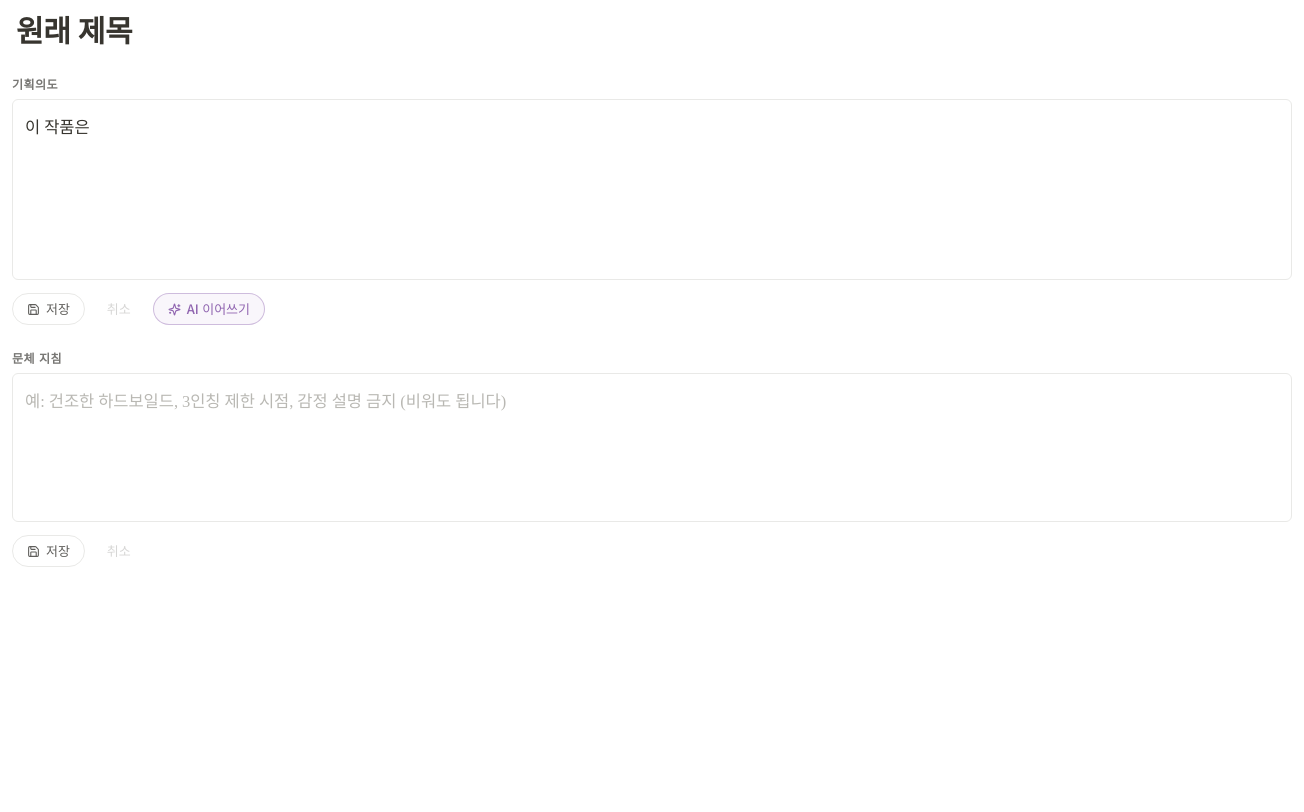
Test: SynopsisEditor › AI 제안 패널의 "취소" 클릭 시 기획의도를 바꾸지 않고 패널만 닫는다
The image size is (1304, 812).
Expected: the text box labelled "기획의도" holds "이 작품은", [12,99,1292,280]
Click the button "AI 이어쓰기". click: (209, 309)
box: [153,293,265,325]
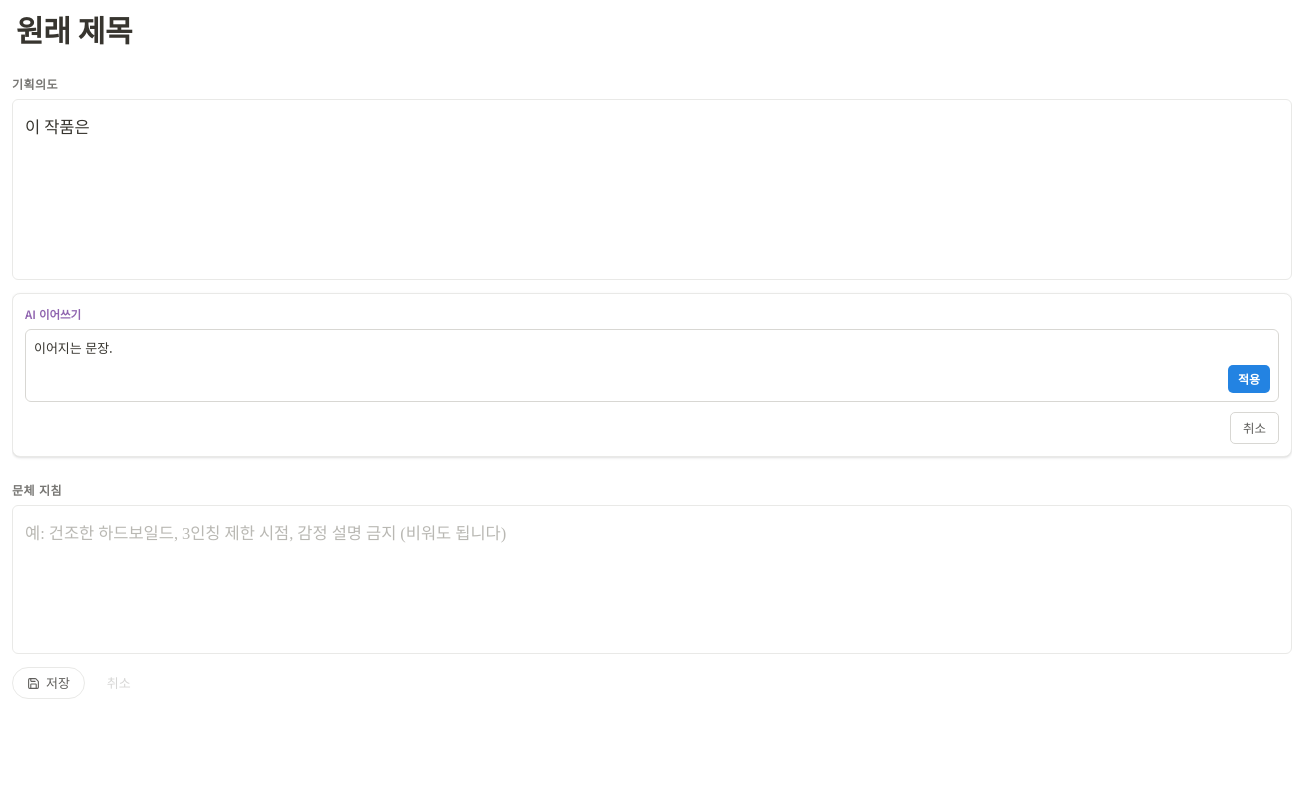
Click the 1st button "취소". click: (1255, 428)
box: [1230,412,1279,444]
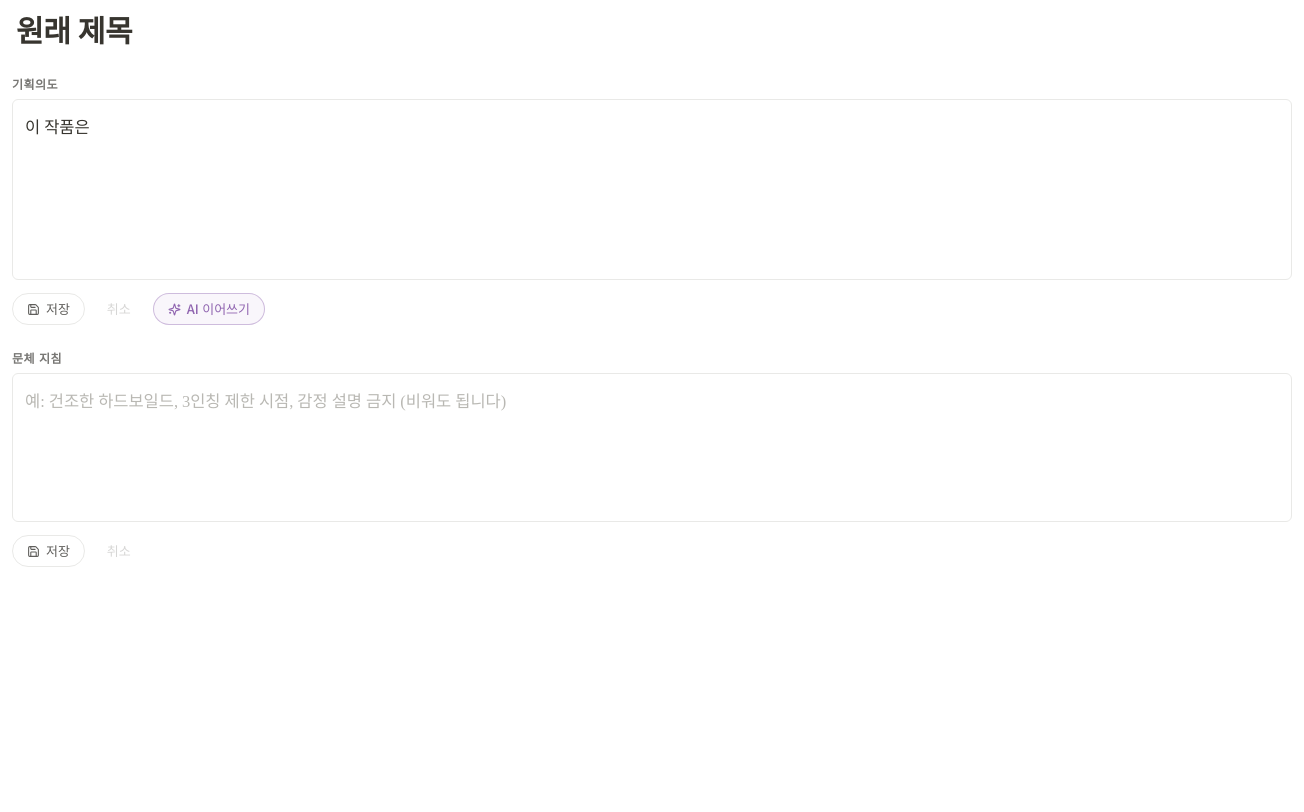
Expected: the text box labelled "기획의도" holds "이 작품은", [12,99,1292,280]
Result: the button "저장" below "기획의도" is shown at [12,293,85,325]
